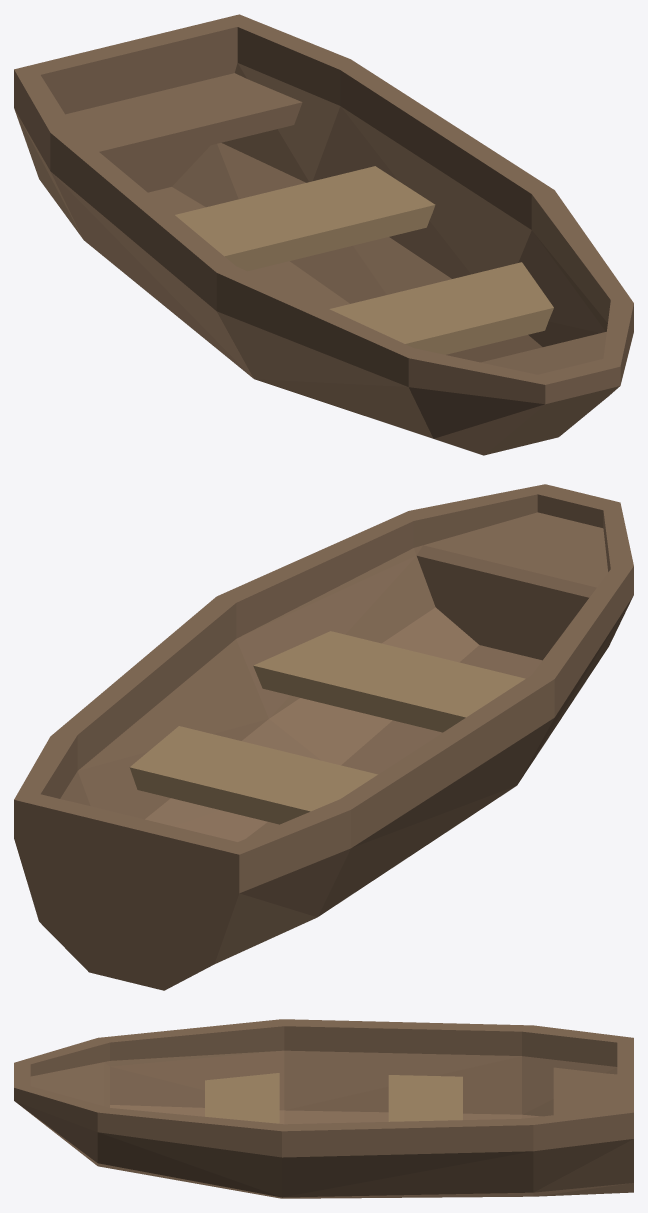
File: Prop_Boat_2.glb
The picture shows the model from 3 angles, top to bottom: view 1: azimuth 30°, elevation 25°; view 2: azimuth 150°, elevation 25°; view 3: azimuth 270°, elevation 25°; orthographic projection. The views are drawn at different scales.
Visible parts, largest first — view 1: Prop_Boat_2; view 2: Prop_Boat_2; view 3: Prop_Boat_2.
Part boxes in pixels (bbox=[...]): Prop_Boat_2: bbox=[14, 14, 633, 455]; Prop_Boat_2: bbox=[14, 484, 633, 990]; Prop_Boat_2: bbox=[14, 1019, 633, 1198].
Bounding box in the file's own units: 1.07 × 0.4662 × 2.5.
